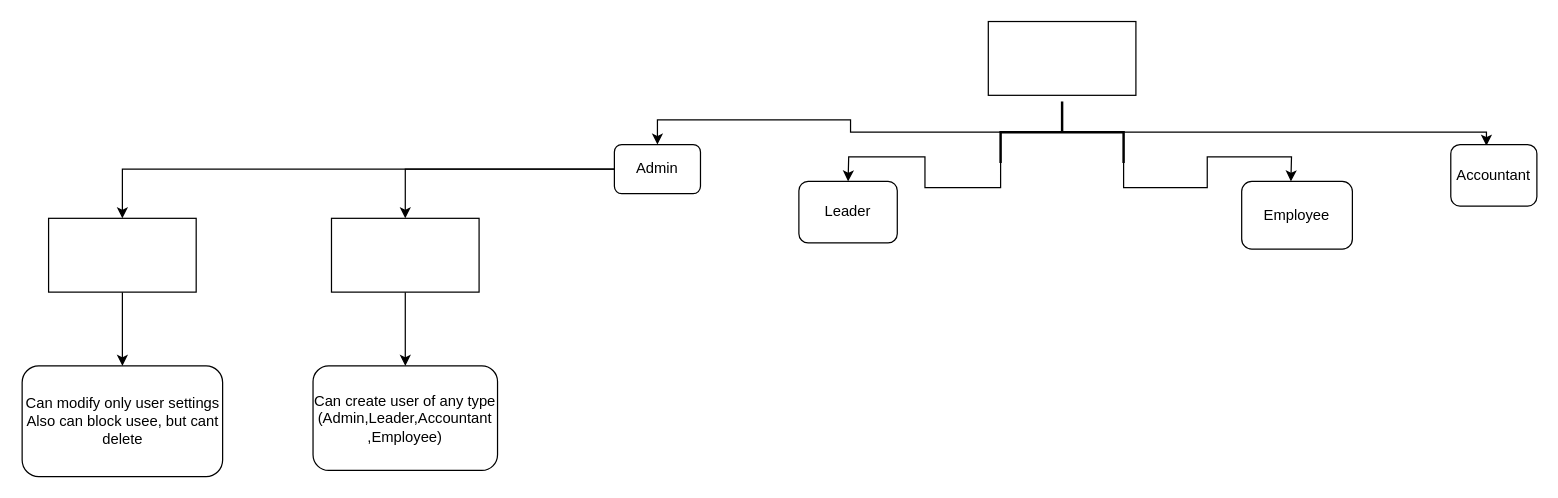
This 1558x498 diagram has some shape labels left out. Each missing label, with the box of its shape:
Creat User: (330, 217, 479, 292)
Login: (987, 20, 1136, 95)
Modify User: (47, 217, 196, 292)
